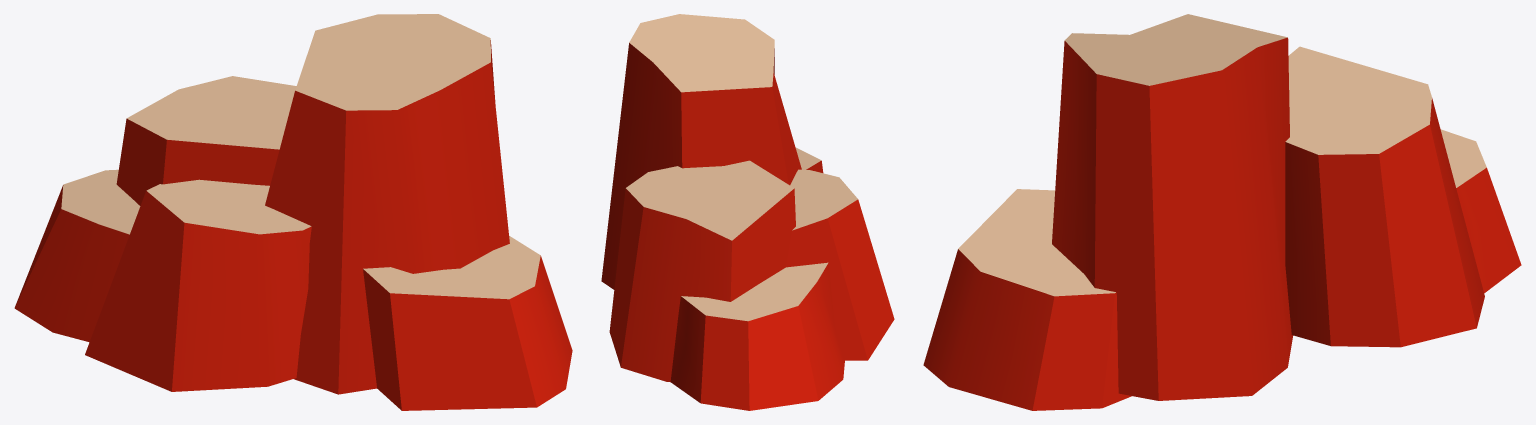
Rendered from Small_Mountain_03.fbx.
The picture shows the model from 3 angles, left to right: view 1: azimuth 30°, elevation 25°; view 2: azimuth 150°, elevation 25°; view 3: azimuth 270°, elevation 25°; orthographic projection. The views are drawn at different scales.
Visible parts, largest first — view 1: Small_Mountain_03; view 2: Small_Mountain_03; view 3: Small_Mountain_03.
Part boxes in pixels (x1,y1,x2,y2): Small_Mountain_03: (14, 14, 572, 410); Small_Mountain_03: (601, 14, 894, 410); Small_Mountain_03: (923, 14, 1521, 410).
Size of the model in its own units: 897 by 652 by 1123.
